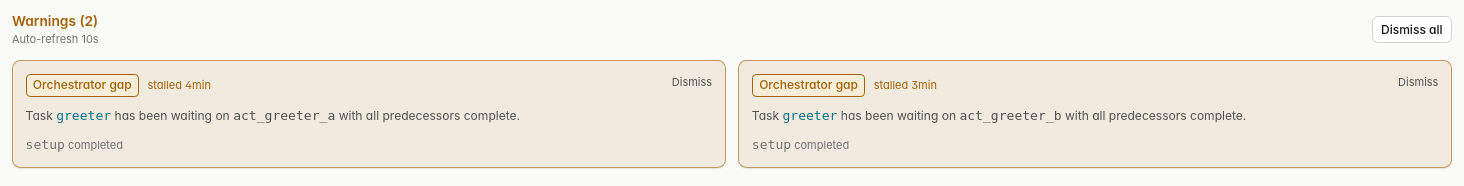
<OverviewWarnings> › lets an operator dismiss a single warning without removing the other warnings
Check: the heading "Warnings (2)" is shown, box [12,12,99,31]
Click the button with aria-label "Dismiss orchestrator gap for greeter on act_greeter_a": (692, 82) [672,74,712,90]
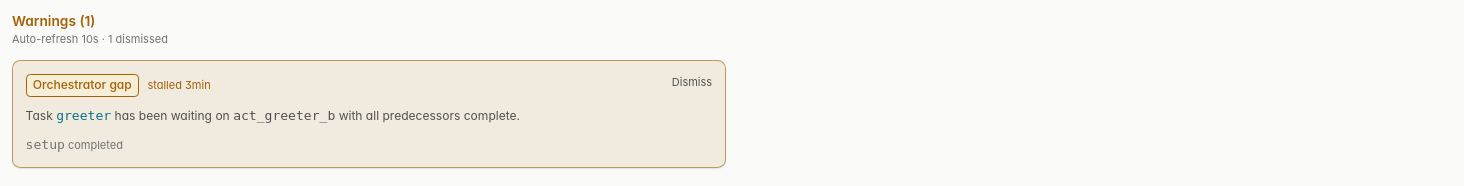
Check: the heading "Warnings (1)" is shown, box [12,13,96,29]
Check: the text "Auto-refresh 10s · 1 dismissed" is shown, box [12,31,168,48]
Check: the number of elements with test id "lifecycle-orchestrator-gap" is 1, box [12,60,726,168]
